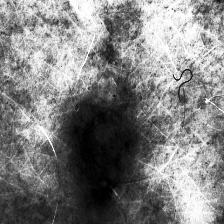Benign Marking or Mole: (66, 102, 140, 196)
